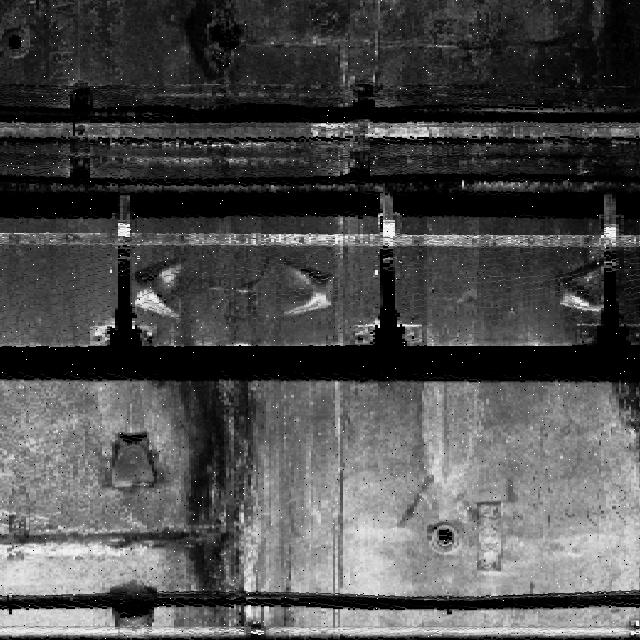leakage: (166, 380, 262, 635)
